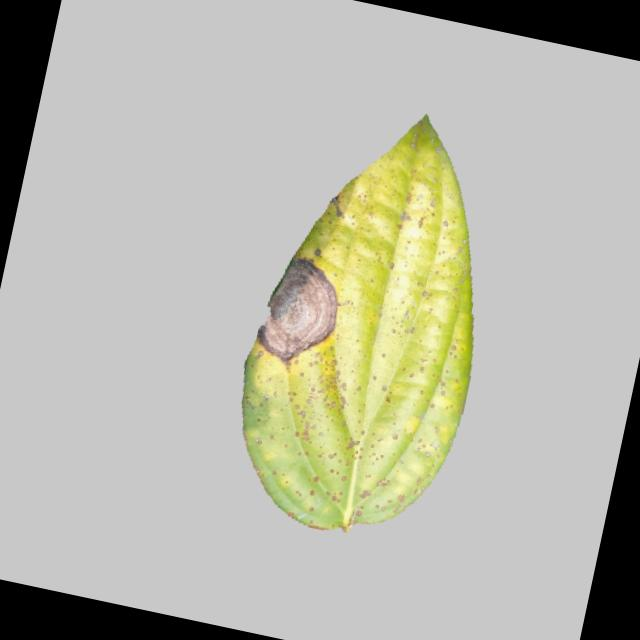leaf-blight: (212, 92, 530, 555)
